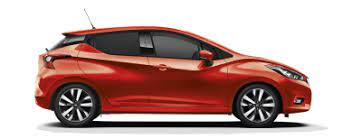Nissan: (37, 24, 312, 127)
